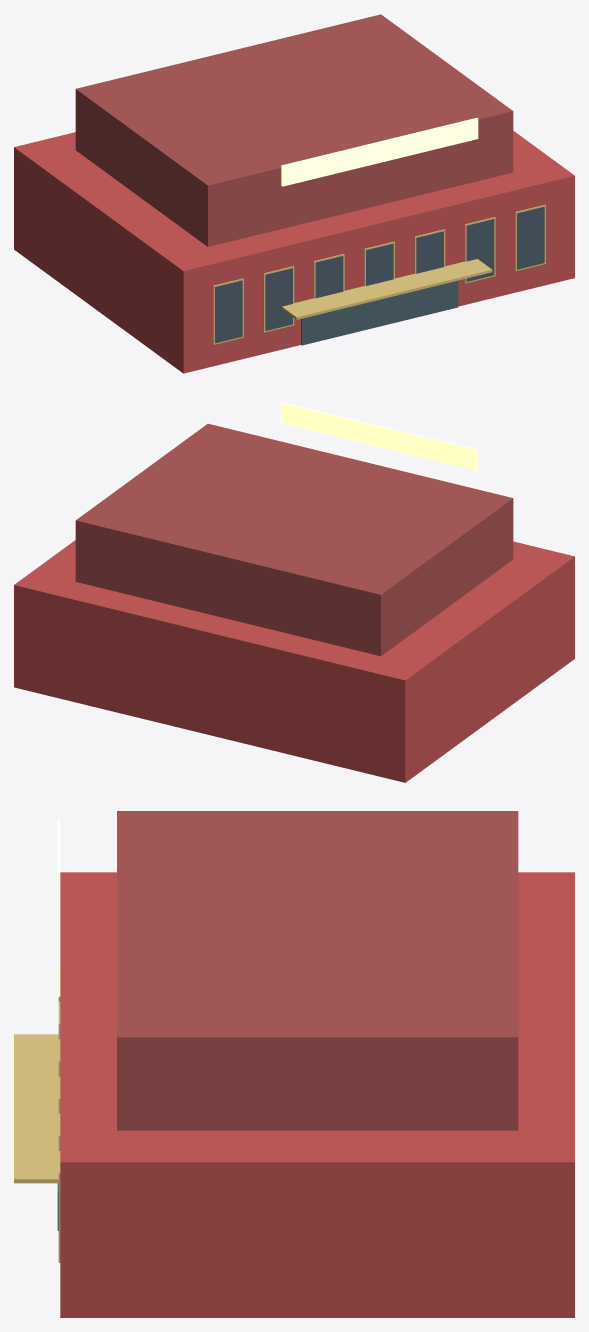
Rendered from casino.glb.
3 renders of one model, top to bottom at view 1: azimuth 30°, elevation 25°; view 2: azimuth 150°, elevation 25°; view 3: azimuth 270°, elevation 25°, orthographic. The views are drawn at different scales.
Visible parts, largest first — view 1: Cube.015, Cube, Cube.002, Cube.016, Cube.018, Cube.017, Cube.001; view 2: Cube, Cube.015, Cube.016; view 3: Cube.015, Cube, Cube.017, Cube.001, Cube.016.
Boxes of the visible parts, bbox=[...] form: Cube.015: bbox=[75, 14, 513, 246]; Cube: bbox=[14, 131, 574, 373]; Cube.002: bbox=[215, 206, 544, 343]; Cube.016: bbox=[281, 117, 478, 186]; Cube.018: bbox=[301, 280, 458, 345]; Cube.017: bbox=[282, 259, 492, 319]; Cube.001: bbox=[213, 204, 545, 344]; Cube: bbox=[14, 540, 574, 782]; Cube.015: bbox=[75, 423, 513, 656]; Cube.016: bbox=[281, 402, 478, 470]; Cube.015: bbox=[117, 811, 518, 1130]; Cube: bbox=[60, 872, 574, 1317]; Cube.017: bbox=[14, 1034, 58, 1183]; Cube.001: bbox=[58, 996, 60, 1262]; Cube.016: bbox=[57, 820, 60, 996].
Bounding box in the file's own units: 40 × 18 × 32.7.
